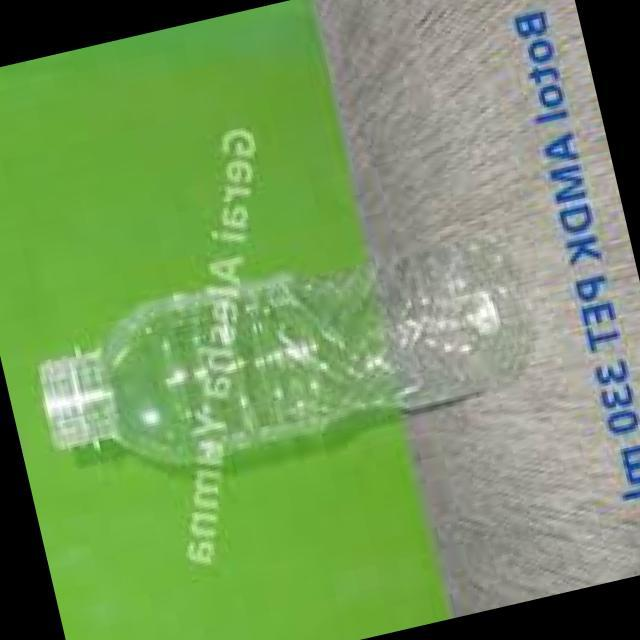good: (25, 221, 550, 507)
